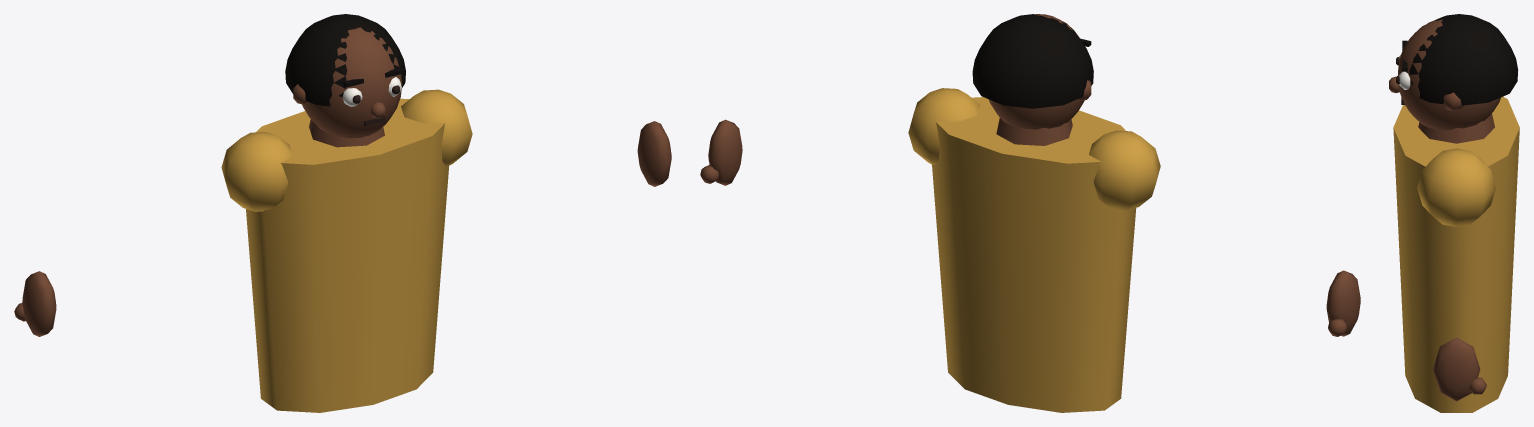
Rendered from avatar-marigold.glb.
3 renders of one model, left to right at view 1: azimuth 30°, elevation 25°; view 2: azimuth 150°, elevation 25°; view 3: azimuth 270°, elevation 25°, orthographic. The views are drawn at different scales.
Parts seen in each view (by area): view 1: Torso, Skull, Hair, ShoulderR, ShoulderL, HandL, HandR, Collar; view 2: Torso, Hair, ShoulderR, ShoulderL, Skull, HandL, HandR, Collar; view 3: Torso, Hair, ShoulderL, Skull, HandL, Collar, EarL, HandL_Thumb, EyeL.
Boxes of the visible parts, <box> form: Torso: <box>246,98,449,412</box>; Skull: <box>302,27,402,138</box>; Hair: <box>285,14,405,106</box>; ShoulderR: <box>221,132,292,211</box>; ShoulderL: <box>401,89,472,166</box>; HandL: <box>637,121,671,186</box>; HandR: <box>22,271,56,336</box>; Collar: <box>309,119,384,147</box>; Torso: <box>932,97,1136,412</box>; Hair: <box>972,14,1093,108</box>; ShoulderR: <box>1089,130,1160,210</box>; ShoulderL: <box>908,88,980,164</box>; Skull: <box>989,14,1084,129</box>; HandL: <box>708,119,742,185</box>; HandR: <box>1326,270,1360,336</box>; Collar: <box>996,118,1072,145</box>; Torso: <box>1393,96,1519,412</box>; Hair: <box>1409,14,1518,105</box>; ShoulderL: <box>1417,148,1495,226</box>; Skull: <box>1398,19,1500,130</box>; HandL: <box>1433,337,1480,401</box>; Collar: <box>1418,114,1494,143</box>; EarL: <box>1443,92,1463,111</box>; HandL_Thumb: <box>1469,377,1486,394</box>; EyeL: <box>1399,71,1410,89</box>.
Size of the model in its own units: 1.37 by 0.746 by 0.2482.
